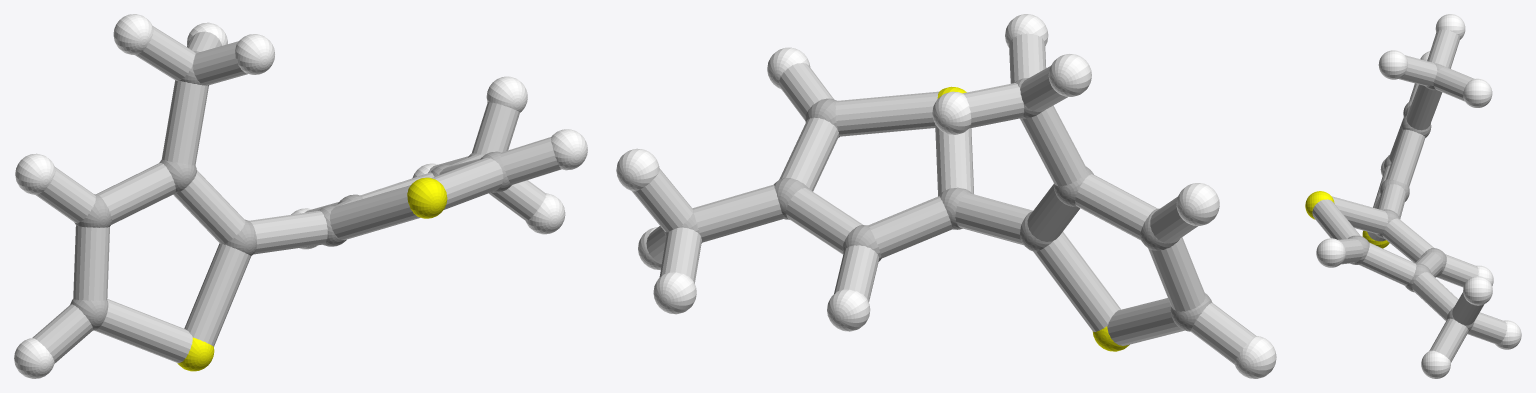
Rendered from color.glb.
3 renders of one model, left to right at view 1: azimuth 30°, elevation 25°; view 2: azimuth 150°, elevation 25°; view 3: azimuth 270°, elevation 25°, orthographic. The views are drawn at different scales.
Parts seen in each view (by area): view 1: grp7965, grp3621, grp1, grp7241; view 2: grp7965, grp3621, grp1, grp7241; view 3: grp7965, grp3621, grp1, grp7241.
Boxes of the visible parts, <box> form: grp7965: <box>32,26,561,363</box>; grp3621: <box>14,14,587,378</box>; grp1: <box>70,51,511,330</box>; grp7241: <box>177,177,447,371</box>; grp7965: <box>632,33,1255,364</box>; grp3621: <box>616,14,1276,378</box>; grp1: <box>664,78,1212,331</box>; grp7241: <box>937,86,1129,351</box>; grp7965: <box>1312,29,1507,362</box>; grp3621: <box>1316,14,1521,378</box>; grp1: <box>1348,62,1474,330</box>; grp7241: <box>1305,191,1389,248</box>.
Bounding box in the file's own units: 9.63 × 5.11 × 4.36.
